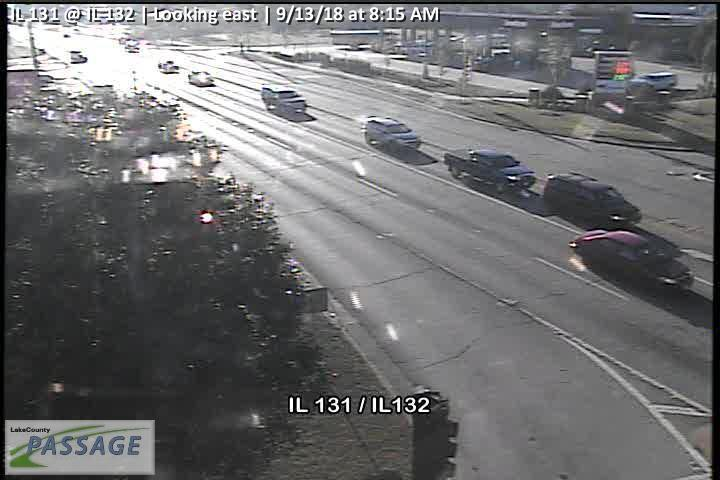SUV: (544, 170, 644, 229), (364, 114, 422, 154), (261, 83, 307, 114), (629, 70, 676, 91), (188, 69, 214, 86), (158, 59, 180, 74)
Sedan: (569, 227, 696, 292)
Truck: (444, 146, 538, 195)
